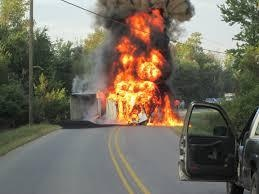fire: (102, 10, 182, 123)
